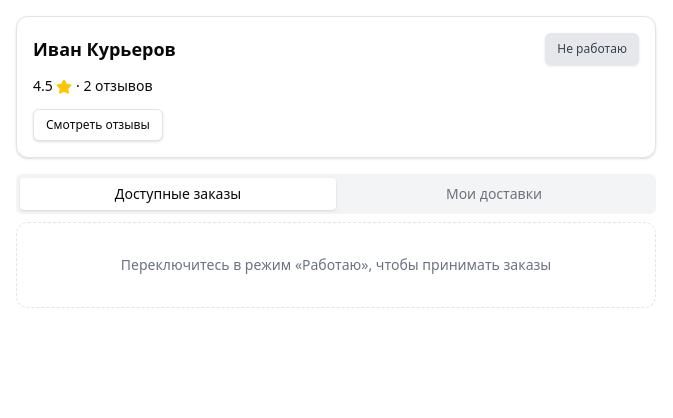
Test case: CourierDashboardPage › toggling online lifts state so AvailableOrdersTab shows orders
Wait for the "Не работаю" button to appear (header rendered)
Click the button "Не работаю". click: x=592, y=49
box: [545,33,639,65]
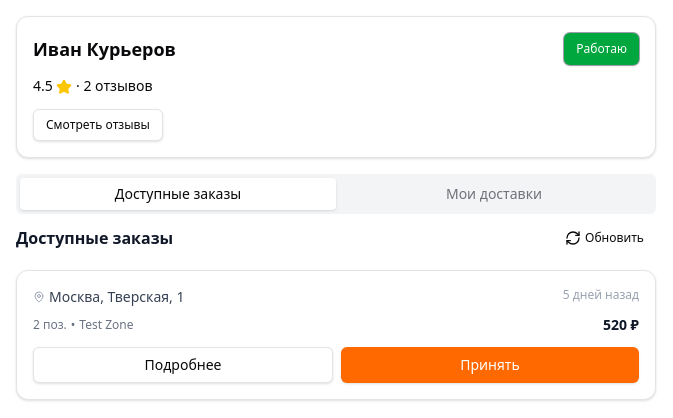
Result: the text "Москва, Тверская, 1" is shown at [49,287,184,307]
Result: the text "Переключитесь в режим" is gone
